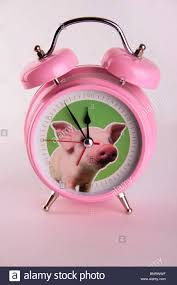alarm_clock: (21, 10, 162, 211), (29, 10, 162, 211)
